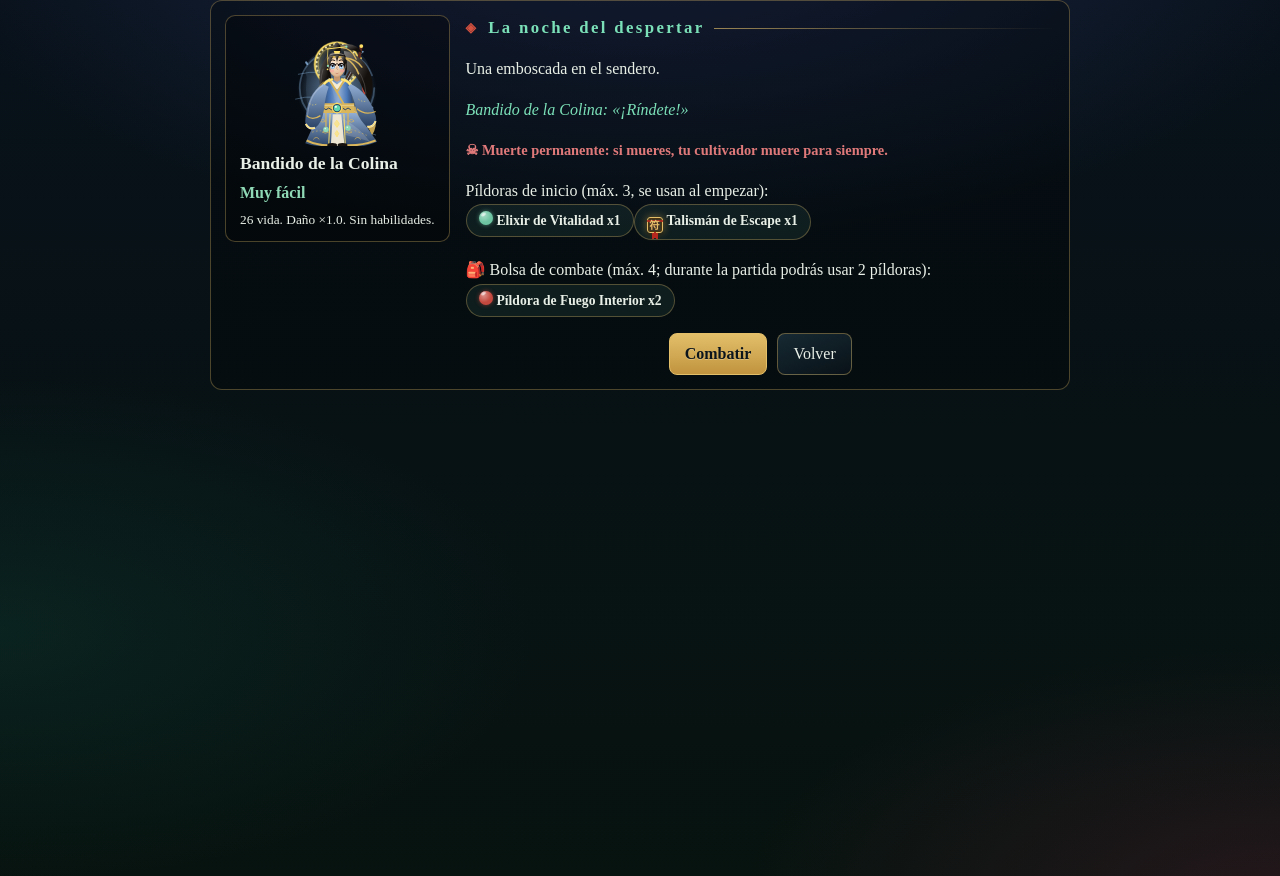
Scenario: Combate › ofrece el botón de Bolsa en combate con los elementos cargados
This screenshot has width=1280, height=876.
Click the button "Combatir".
click(718, 354)  # box x1=669 y1=333 x2=767 y2=375
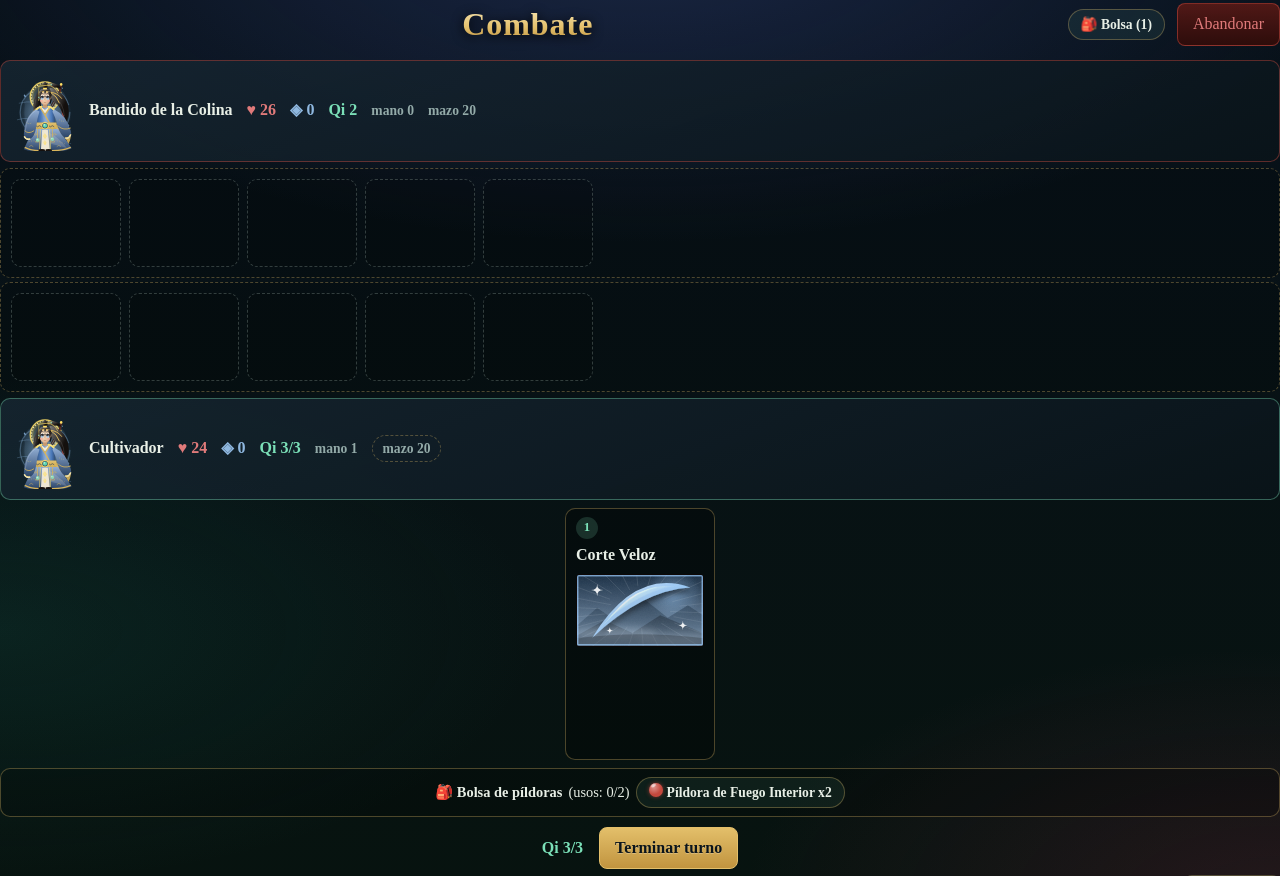
Now the list named "Tablero enemigo" is shown, box x1=0 y1=168 x2=1279 y2=278
Click the button "🎒 Bolsa (1)".
click(1116, 25)  # box x1=1068 y1=9 x2=1165 y2=40
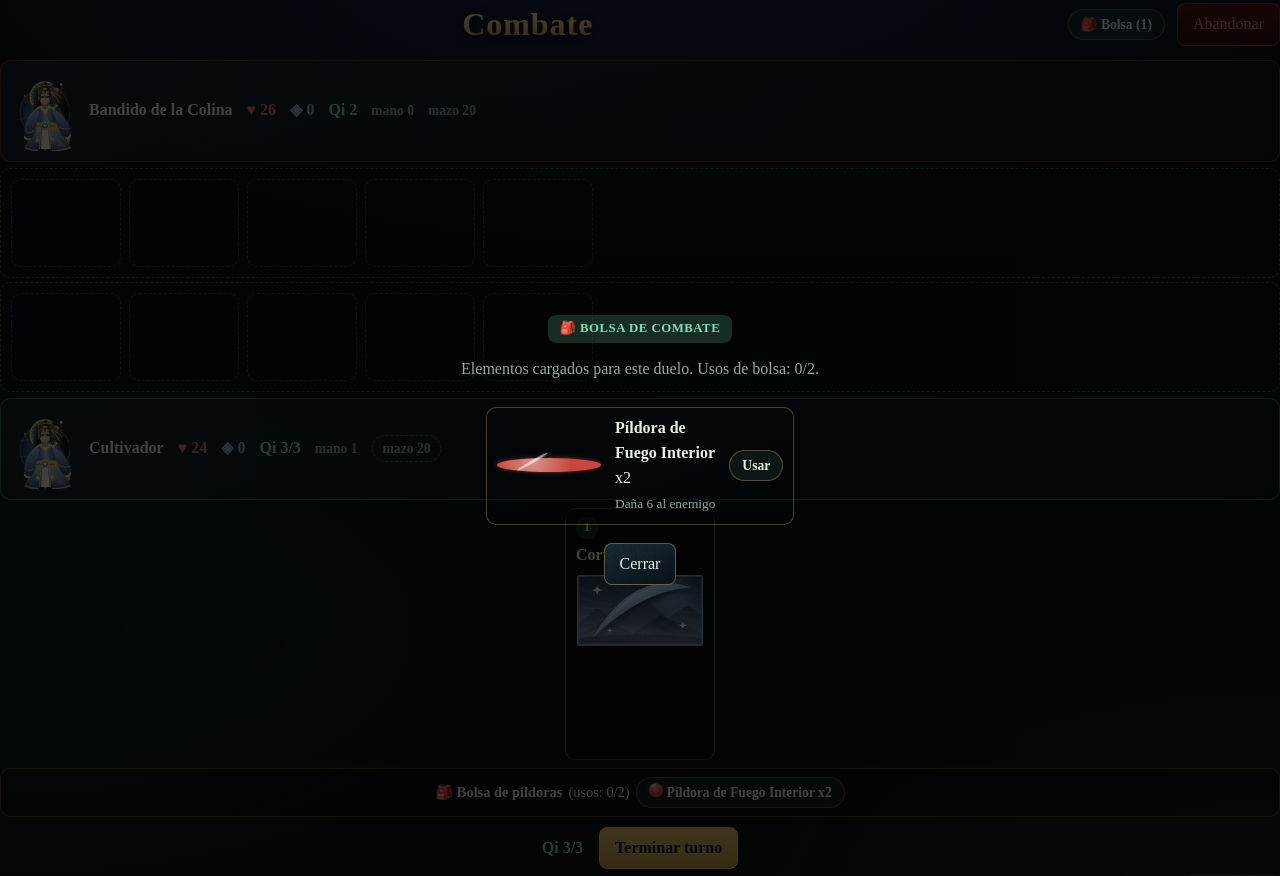
Now the text "Píldora de Fuego Interior" is shown, box x1=615 y1=419 x2=715 y2=461
Now the text "Daña 6 al enemigo" is shown, box x1=615 y1=496 x2=715 y2=511
Now the text "Elementos cargados para este duelo. Usos de bolsa: 0/2." is shown, box x1=461 y1=356 x2=819 y2=381
Click the button "Cerrar".
click(640, 564)  # box x1=604 y1=542 x2=676 y2=585
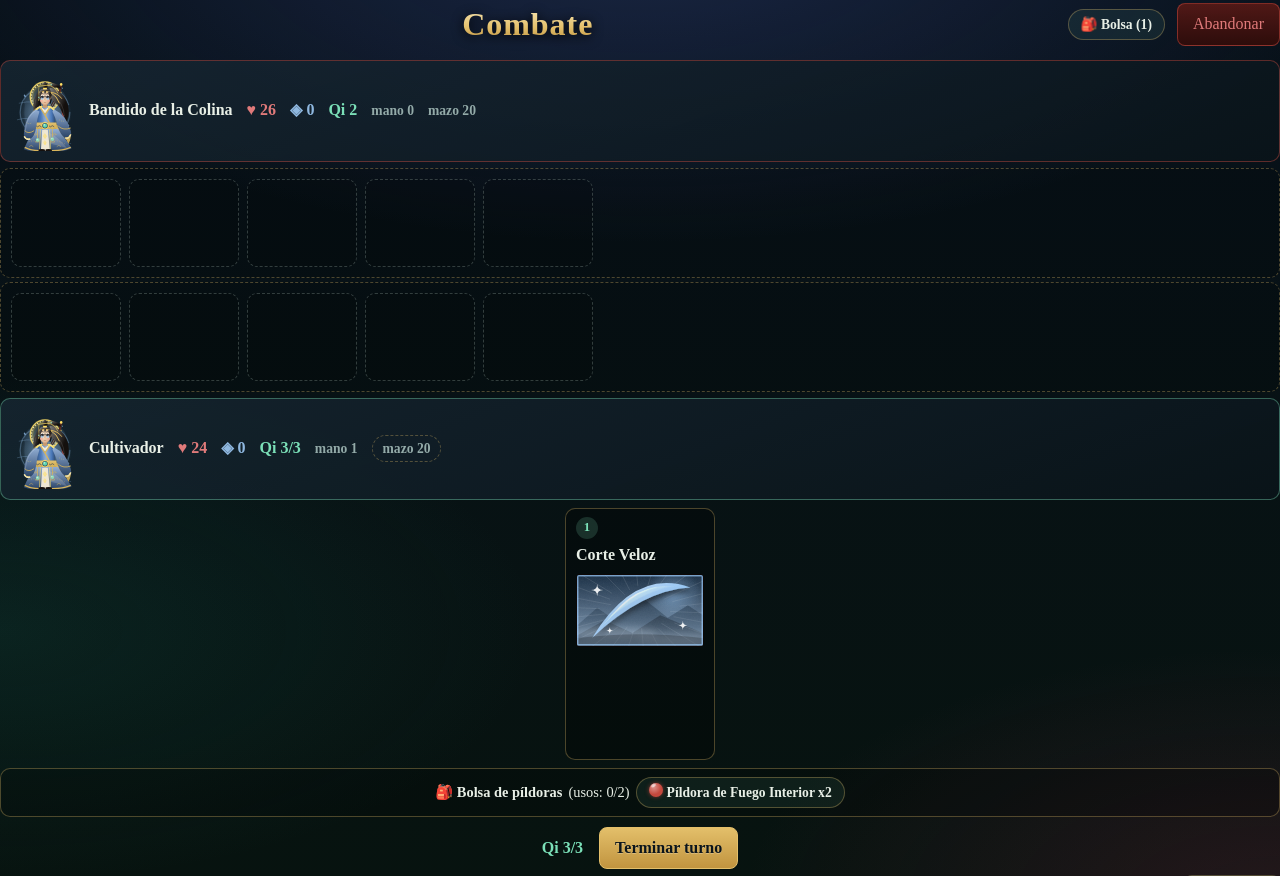
Now the text "Bolsa de combate" is gone
